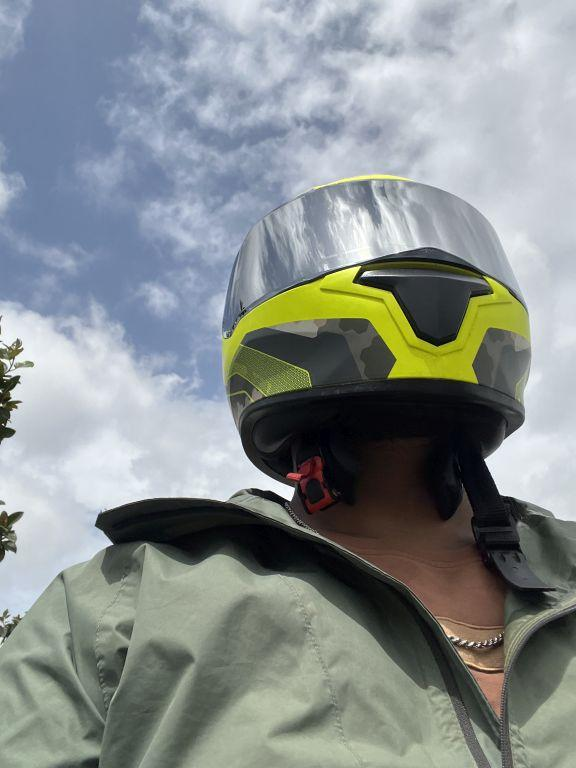helmet: (212, 160, 545, 497)
